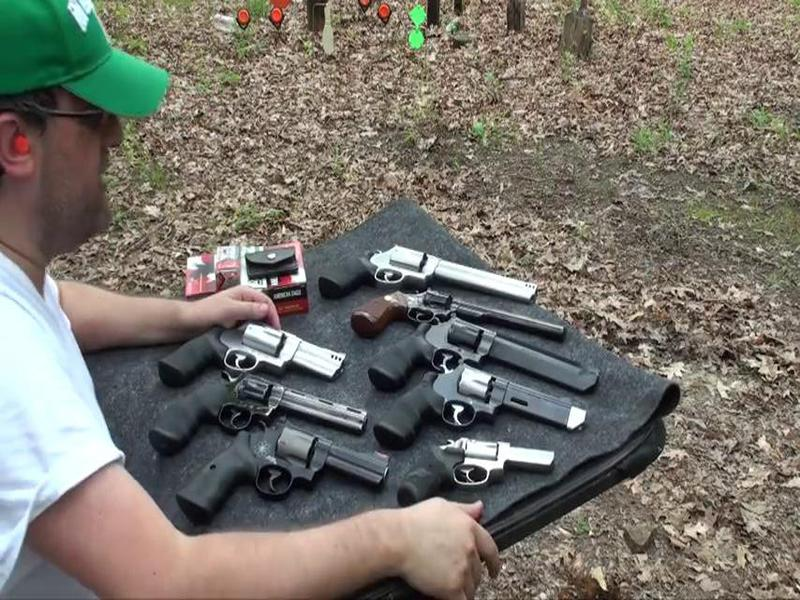Revolver: (384, 355, 587, 454)
